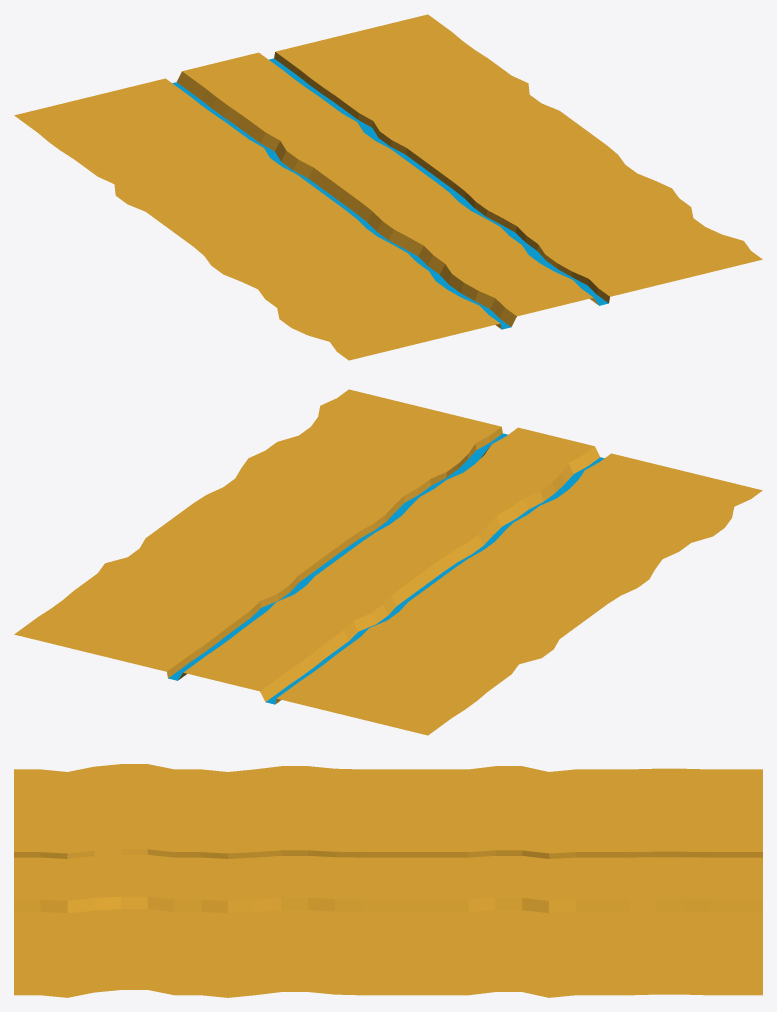
Rendered from StraightRoad.fbx.
The picture shows the model from 3 angles, top to bottom: view 1: azimuth 30°, elevation 25°; view 2: azimuth 150°, elevation 25°; view 3: azimuth 270°, elevation 25°; orthographic projection. The views are drawn at different scales.
Visible parts, largest first — view 1: Plane; view 2: Plane; view 3: Plane.
Boxes of the visible parts, bbox=[...] form: Plane: bbox=[14, 14, 762, 360]; Plane: bbox=[14, 389, 762, 735]; Plane: bbox=[14, 764, 762, 997].
Size of the model in its own units: 7453 by 159 by 10089.
